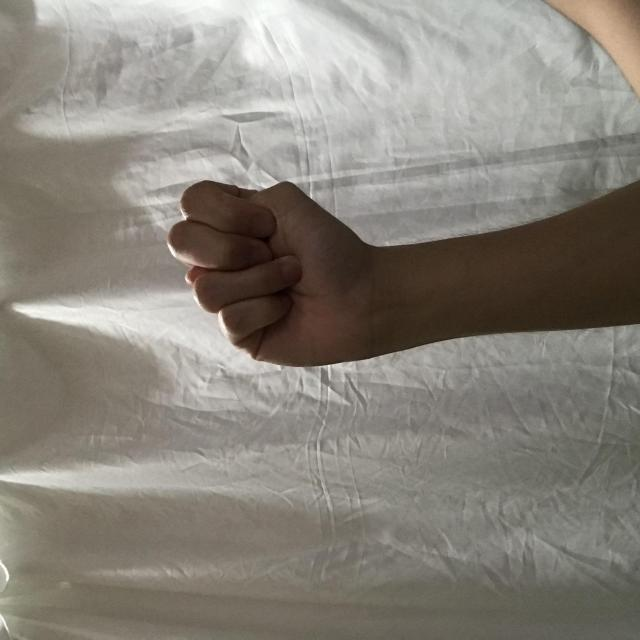N: (272, 170, 460, 375)
